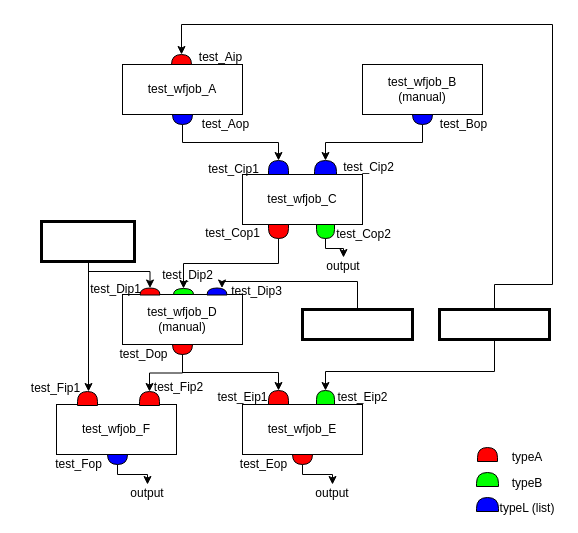
The diagram is 578 pixels wide and 533 high, and some of its shapes have lost their labels. The shapes that lost their labels are listed below. From the top down, each one's box as (x1, y1, x2, y2) in pixels, then its label:
(40, 220, 136, 262): 10 Resources
(300, 308, 414, 340): 1 ResourceList
(438, 308, 550, 340): 1 Resource
